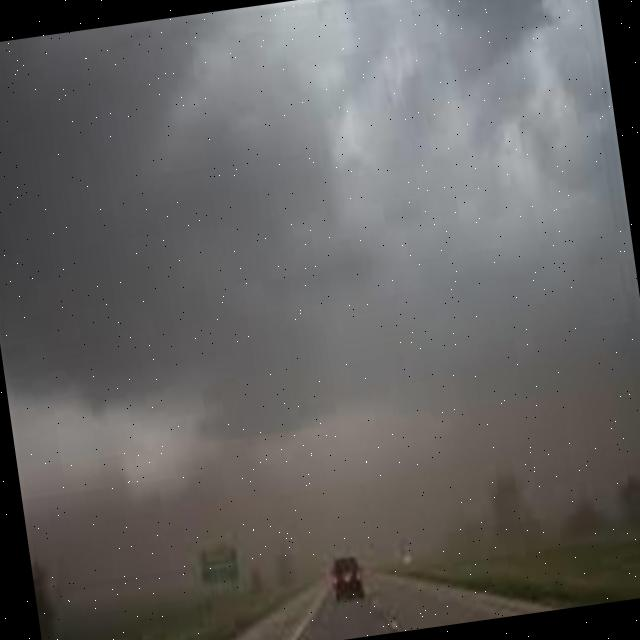car: (328, 550, 366, 602)
